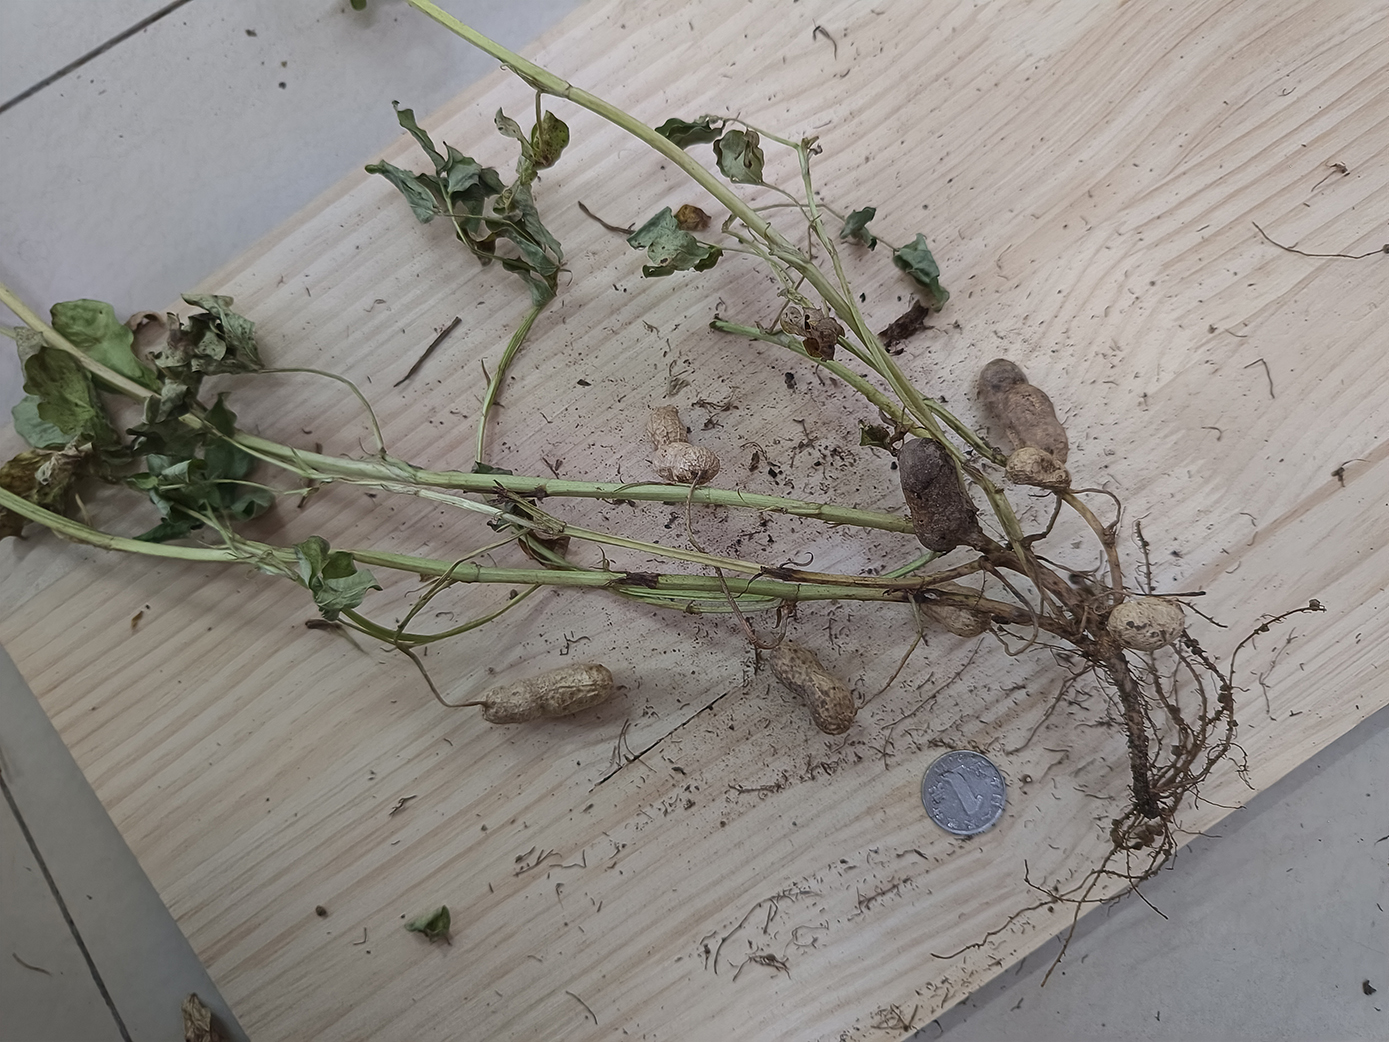h: (769, 641, 857, 736), (483, 660, 612, 722), (648, 404, 721, 483), (1106, 599, 1185, 649), (923, 578, 991, 637), (1007, 445, 1070, 488)
l: (979, 356, 1068, 459), (898, 436, 971, 553)
